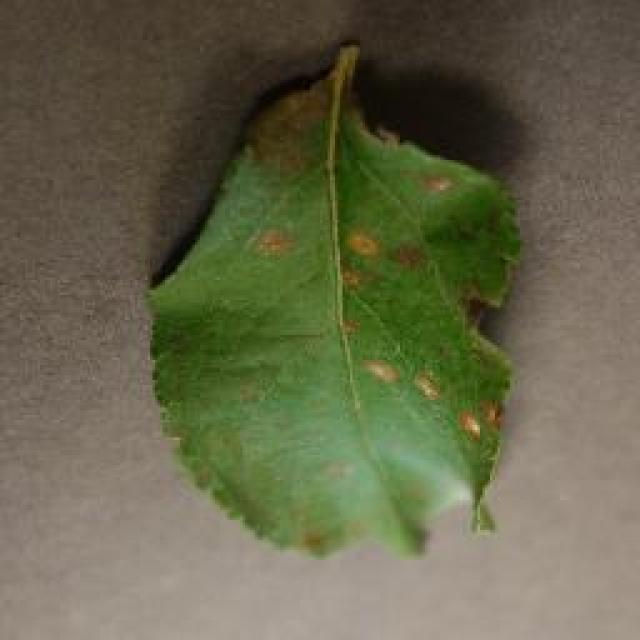apple healthy: (142, 40, 522, 560)
